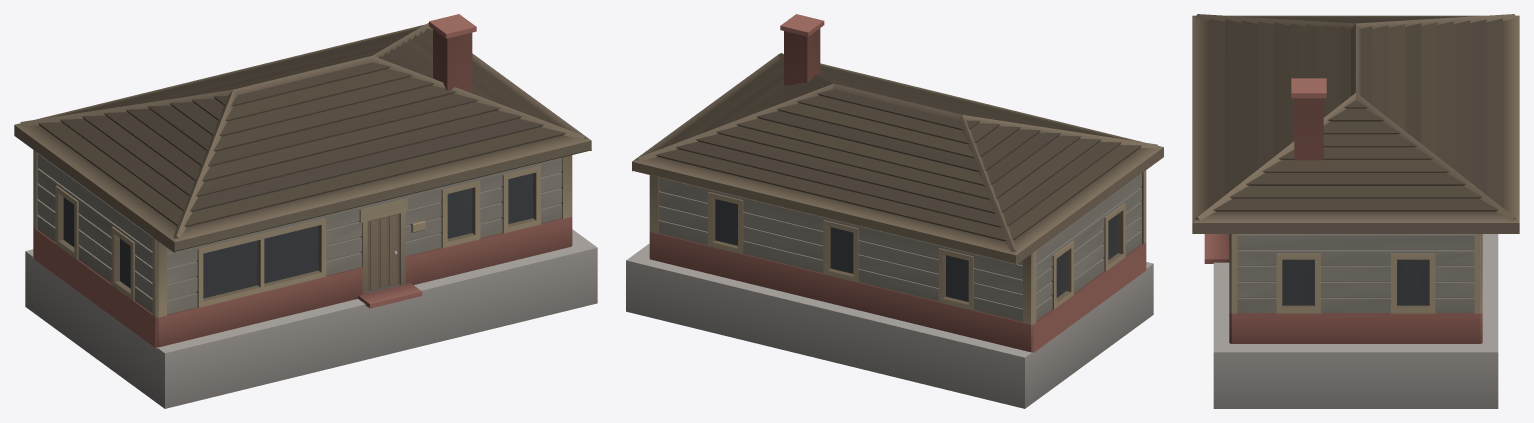
The model's file is ranch.glb.
3 renders of one model, left to right at view 1: azimuth 30°, elevation 25°; view 2: azimuth 150°, elevation 25°; view 3: azimuth 270°, elevation 25°, orthographic. The views are drawn at different scales.
Visible parts, largest first — view 1: ranch; view 2: ranch; view 3: ranch.
Boxes of the visible parts, x1,y1,x2,y2 form: ranch: (14,14,597,408); ranch: (626,14,1163,408); ranch: (1192,14,1519,408).
Size of the model in its own units: 12.48 by 7.4 by 8.
